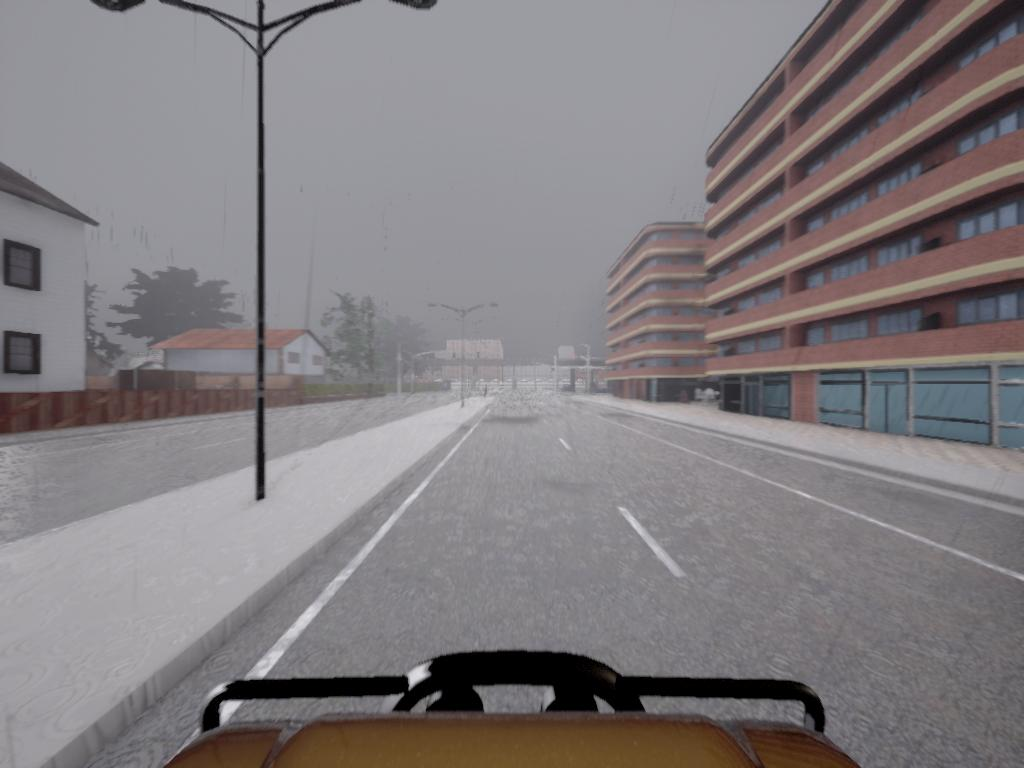traffic_light: (454, 353, 457, 360), (477, 353, 480, 360)
